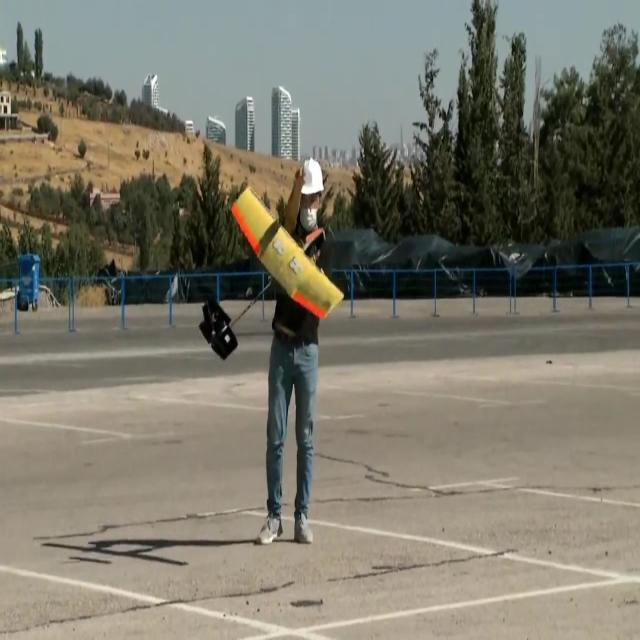iha: (200, 173, 344, 350)
